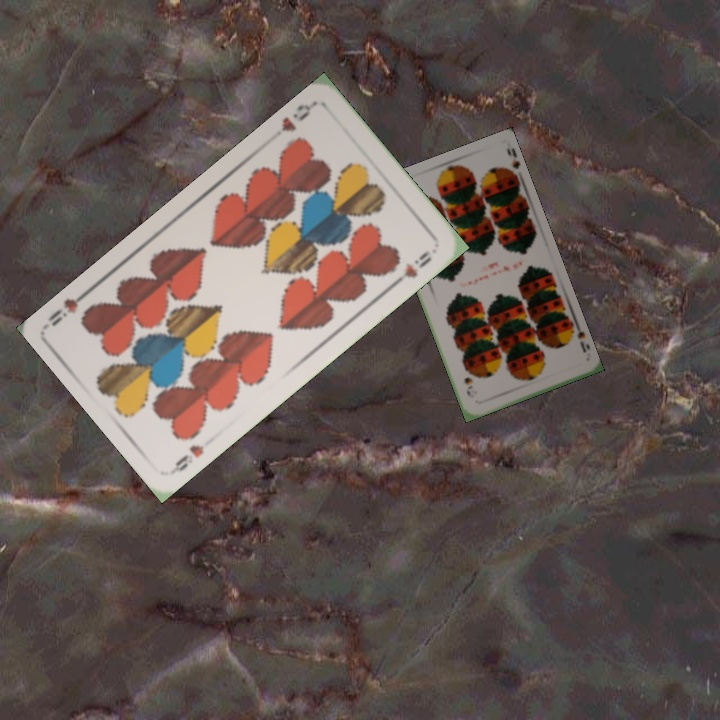H9: (277, 99, 317, 135), (167, 440, 207, 476)
S9: (563, 321, 591, 355)
